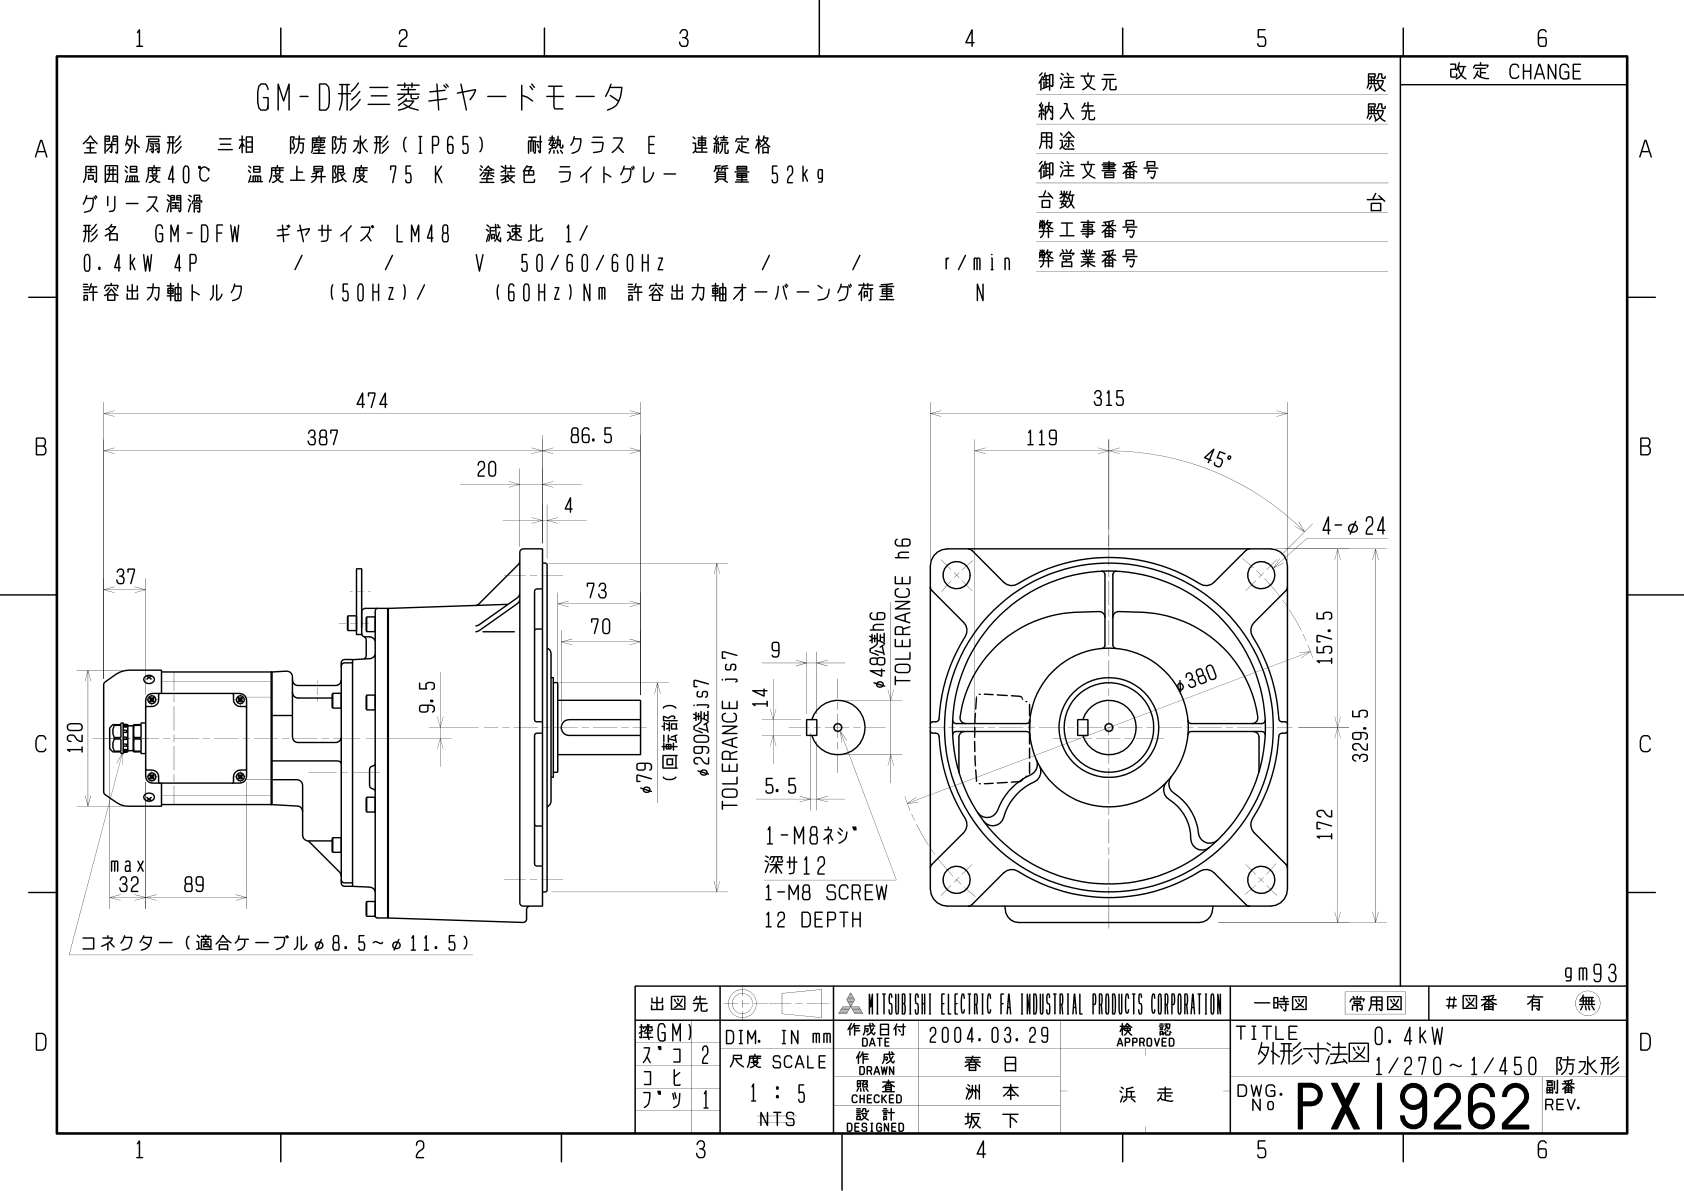GM_D_IP65_三相_フランジ: (58, 360, 1401, 969)
